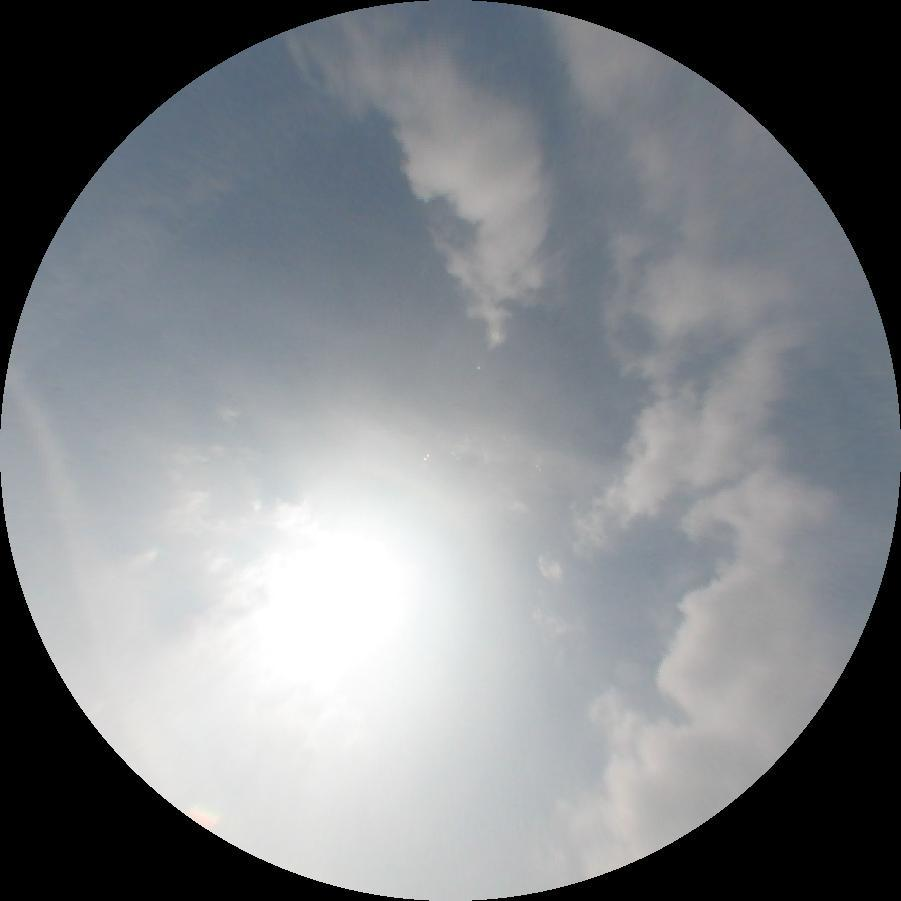sun: (270, 523, 421, 643)
